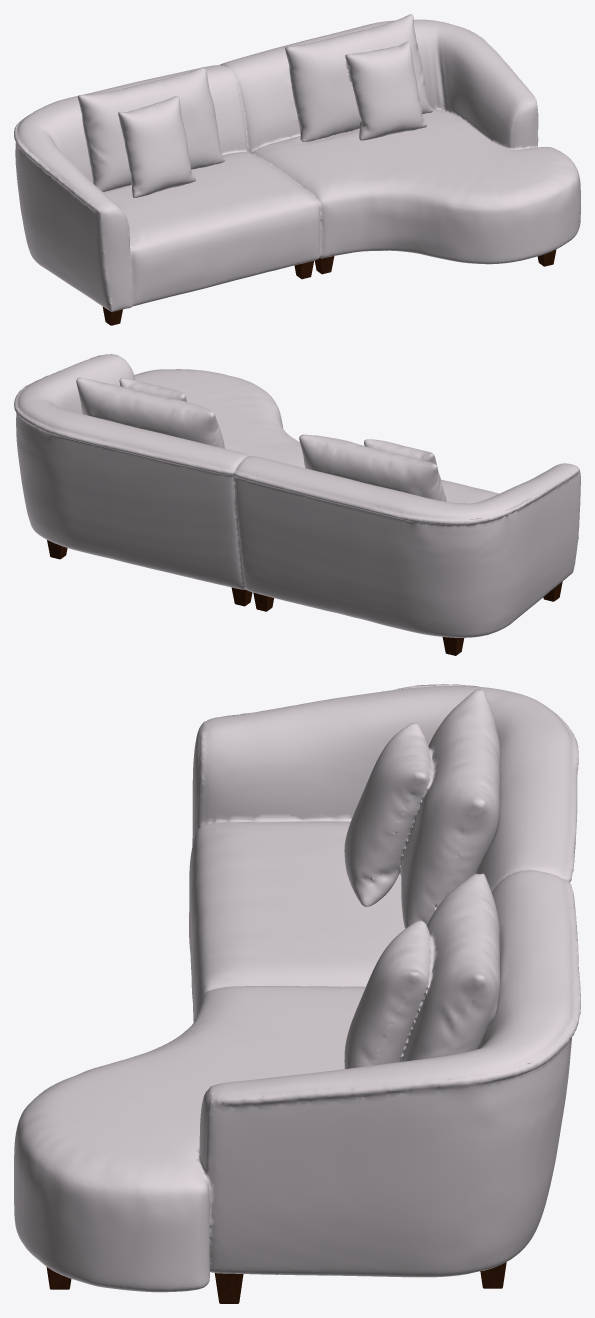
The model's file is SBH_alba.glb.
3 renders of one model, top to bottom at view 1: azimuth 30°, elevation 25°; view 2: azimuth 150°, elevation 25°; view 3: azimuth 270°, elevation 25°, orthographic. The views are drawn at different scales.
Visible parts, largest first — view 1: SBH_alba; view 2: SBH_alba; view 3: SBH_alba.
Boxes of the visible parts, x1,y1,x2,y2 form: SBH_alba: (14,14,580,325); SBH_alba: (14,354,580,655); SBH_alba: (14,684,580,1303).
Size of the model in its own units: 2.44 by 0.8311 by 1.44.
2 materials, 1 textured.
